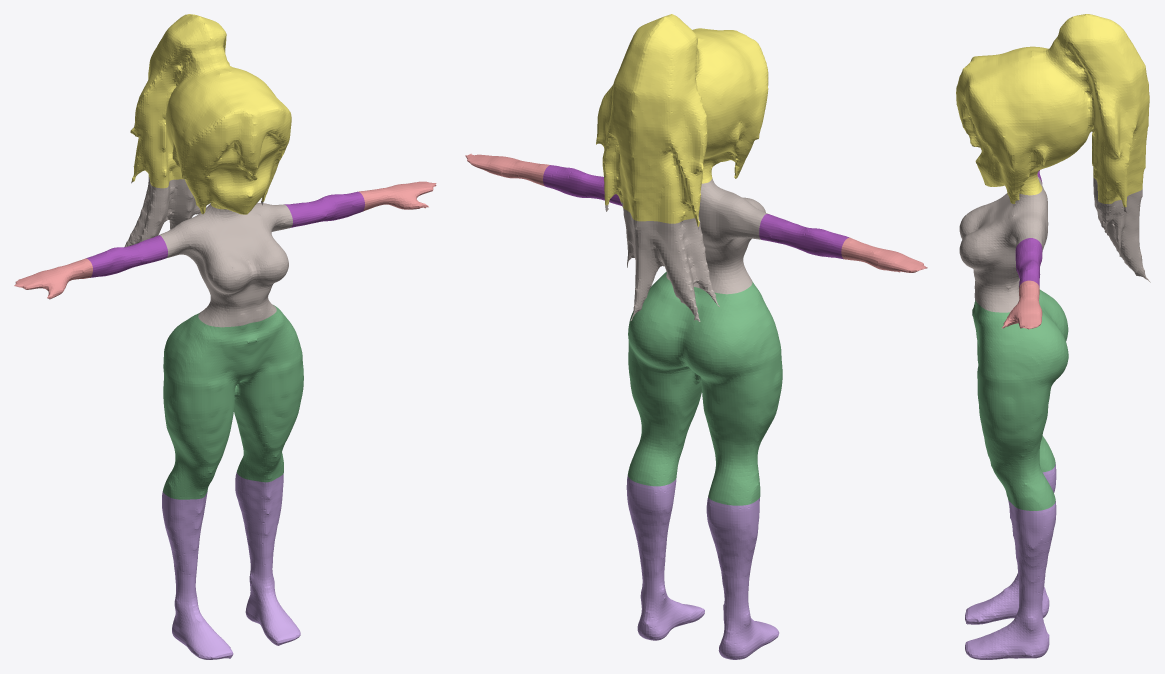
The model's file is character_godmode_final.glb.
The picture shows the model from 3 angles, left to right: view 1: azimuth 30°, elevation 25°; view 2: azimuth 150°, elevation 25°; view 3: azimuth 270°, elevation 25°; orthographic projection. The views are drawn at different scales.
Parts seen in each view (by area): view 1: Part_HEAD_HAIR, Part_TORSO, Part_LEG_UPPER_L, Part_LEG_UPPER_R, Part_LEG_LOWER_R, Part_LEG_LOWER_L, Part_ARM_UPPER_L, Part_ARM_UPPER_R, Part_ARM_LOWER_L, Part_ARM_LOWER_R; view 2: Part_HEAD_HAIR, Part_LEG_UPPER_L, Part_TORSO, Part_LEG_UPPER_R, Part_LEG_LOWER_L, Part_LEG_LOWER_R, Part_ARM_UPPER_L, Part_ARM_UPPER_R, Part_ARM_LOWER_L, Part_ARM_LOWER_R; view 3: Part_HEAD_HAIR, Part_LEG_UPPER_R, Part_TORSO, Part_LEG_LOWER_R, Part_LEG_LOWER_L, Part_ARM_LOWER_R, Part_LEG_UPPER_L, Part_ARM_UPPER_R.
Boxes of the visible parts, x1,y1,x2,y2 form: Part_HEAD_HAIR: [130, 14, 291, 214]; Part_TORSO: [124, 177, 292, 327]; Part_LEG_UPPER_L: [163, 313, 251, 499]; Part_LEG_UPPER_R: [234, 305, 303, 482]; Part_LEG_LOWER_R: [235, 472, 300, 645]; Part_LEG_LOWER_L: [162, 491, 233, 659]; Part_ARM_UPPER_L: [86, 235, 167, 277]; Part_ARM_UPPER_R: [284, 191, 364, 227]; Part_ARM_LOWER_L: [14, 258, 92, 299]; Part_ARM_LOWER_R: [358, 181, 436, 211]; Part_HEAD_HAIR: [596, 14, 768, 226]; Part_LEG_UPPER_L: [681, 281, 782, 505]; Part_TORSO: [605, 178, 767, 321]; Part_LEG_UPPER_R: [628, 272, 701, 486]; Part_LEG_LOWER_L: [706, 496, 779, 659]; Part_LEG_LOWER_R: [626, 475, 704, 640]; Part_ARM_UPPER_L: [759, 214, 849, 259]; Part_ARM_UPPER_R: [543, 165, 621, 205]; Part_ARM_LOWER_L: [841, 237, 927, 272]; Part_ARM_LOWER_R: [465, 153, 549, 186]; Part_HEAD_HAIR: [956, 14, 1149, 207]; Part_LEG_UPPER_R: [972, 300, 1068, 510]; Part_TORSO: [959, 177, 1150, 312]; Part_LEG_LOWER_R: [965, 500, 1056, 659]; Part_LEG_LOWER_L: [965, 464, 1056, 624]; Part_ARM_LOWER_R: [1001, 280, 1042, 329]; Part_LEG_UPPER_L: [972, 289, 1068, 472]; Part_ARM_UPPER_R: [1015, 238, 1042, 287].
Size of the model in its own units: 1.46 by 1.96 by 0.5555.
